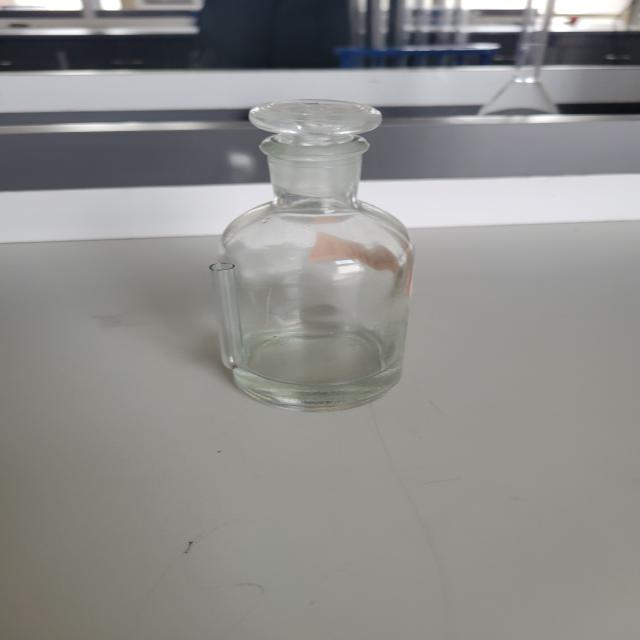Reagent_Bottle: (162, 64, 468, 443)
